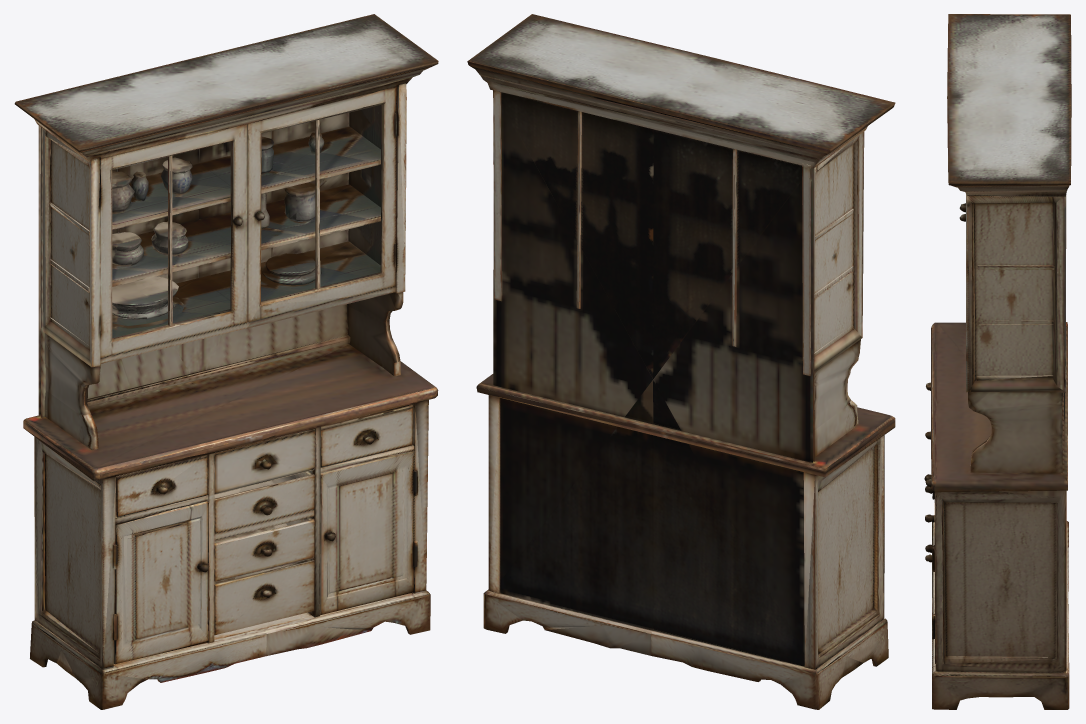
Rendered from cabinet.glb.
3 views of the same model, side by side, from view 1: azimuth 30°, elevation 25°; view 2: azimuth 150°, elevation 25°; view 3: azimuth 270°, elevation 25° (orthographic). The views are drawn at different scales.
Parts seen in each view (by area): view 1: mesh_node; view 2: mesh_node; view 3: mesh_node.
Boxes of the visible parts, <box> form: mesh_node: <box>14,14,438,709</box>; mesh_node: <box>467,14,895,709</box>; mesh_node: <box>924,14,1071,709</box>.
Size of the model in its own units: 0.6738 by 1 by 0.2495.
1 material, 1 textured.
